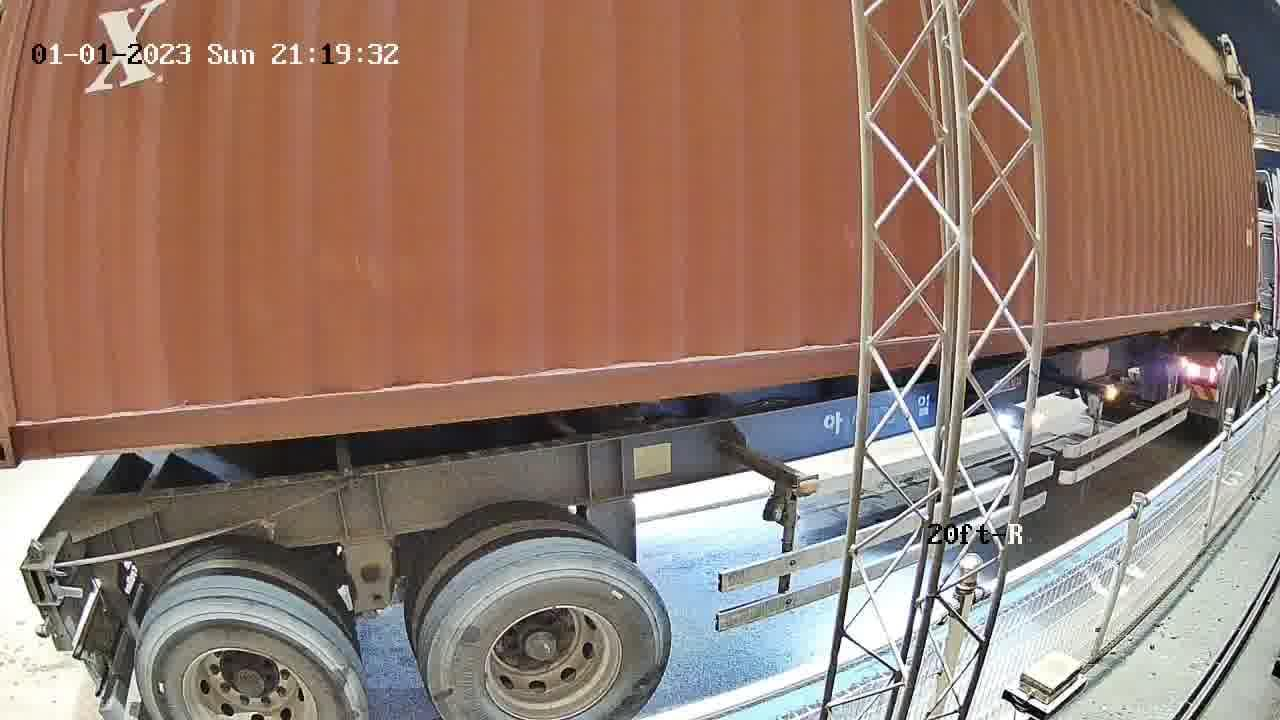Cone: (16, 540, 67, 605)
Hole_L: (0, 397, 56, 468)
Tire: (432, 553, 670, 714), (135, 603, 361, 719)
